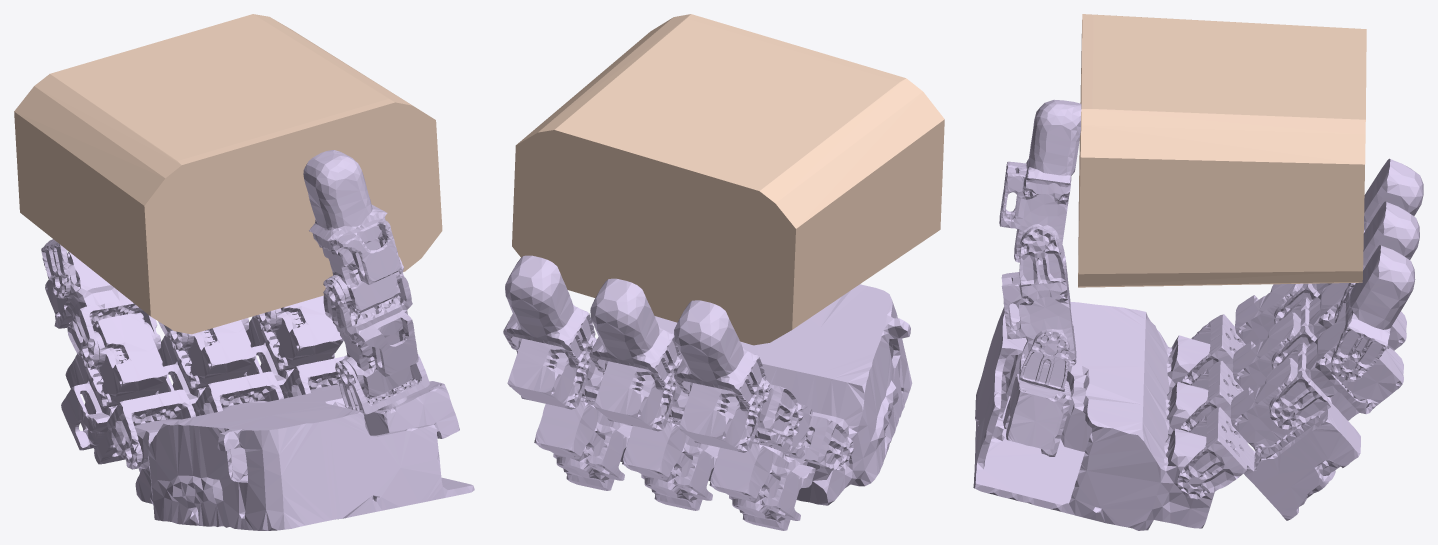
Rendered from b1ad7c3d31bbac-closed.glb.
The picture shows the model from 3 angles, left to right: view 1: azimuth 30°, elevation 25°; view 2: azimuth 150°, elevation 25°; view 3: azimuth 270°, elevation 25°; orthographic projection. The views are drawn at different scales.
Visible parts, largest first — view 1: world, LEAP_hand; view 2: world, LEAP_hand; view 3: LEAP_hand, world.
Boxes of the visible parts, x1=… form: world: x1=14, y1=14, x2=442, y2=334; LEAP_hand: x1=41, y1=150, x2=474, y2=530; world: x1=512, y1=14, x2=944, y2=345; LEAP_hand: x1=503, y1=255, x2=912, y2=530; LEAP_hand: x1=973, y1=99, x2=1423, y2=530; world: x1=1078, y1=14, x2=1366, y2=287.
Size of the model in its own units: 0.1542 by 0.1995 by 0.1977.
